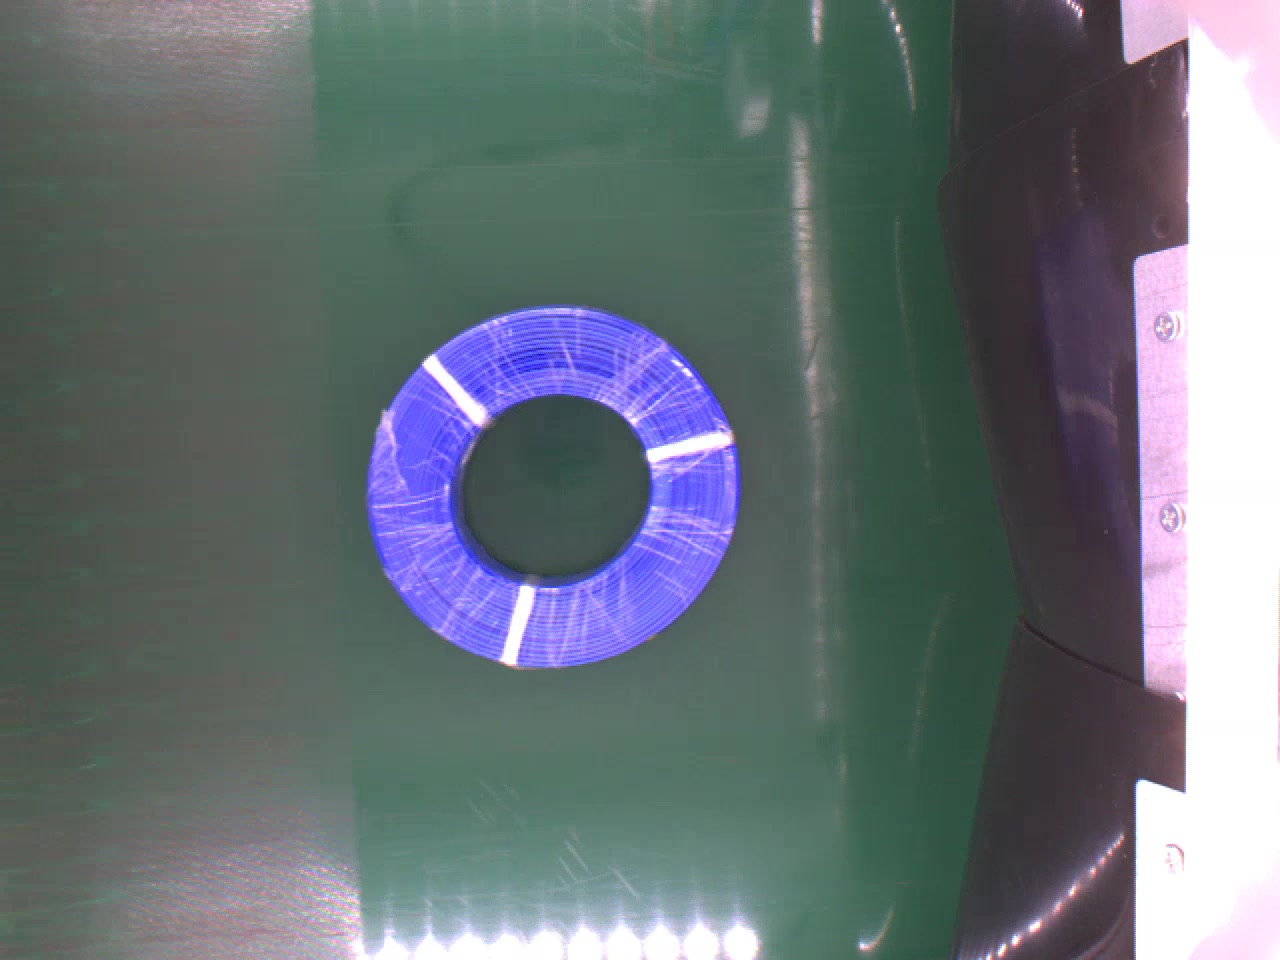blue: (362, 305, 738, 667)
